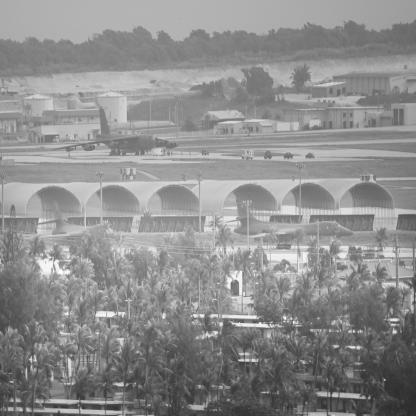B1: (224, 201, 355, 251), (25, 202, 136, 253)
B52: (52, 107, 181, 158)
